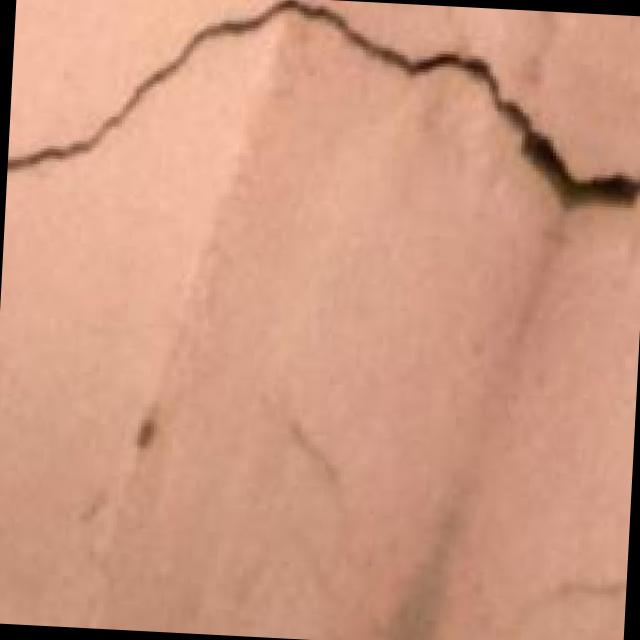crack: (6, 0, 640, 279)
